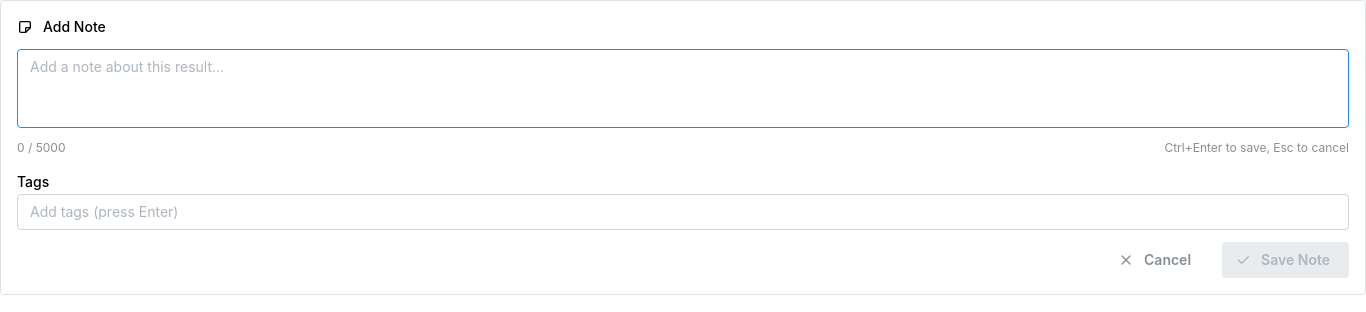
Scenario: NoteEditor › save functionality › should enable save button when content is entered
Type "Test" into the text box named "note content" at point(683, 89), box [17,49,1349,128]
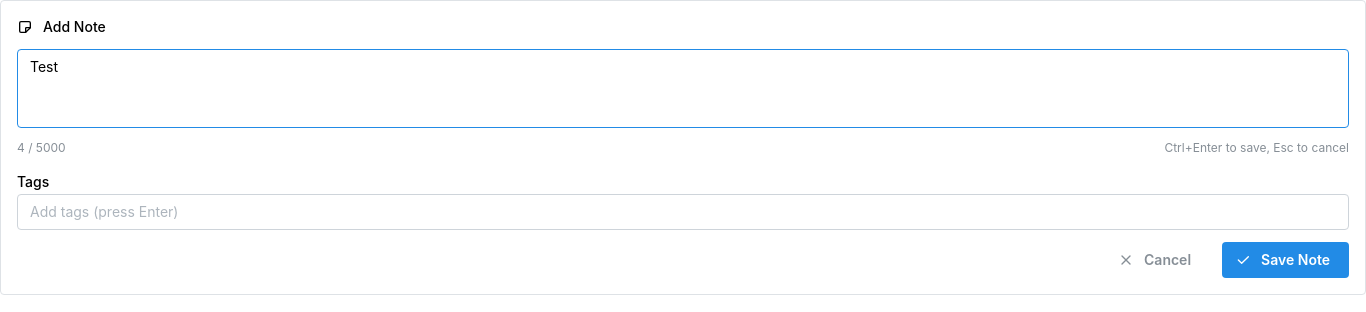
Now the button "Save Note" is enabled, box [1222,242,1349,278]
